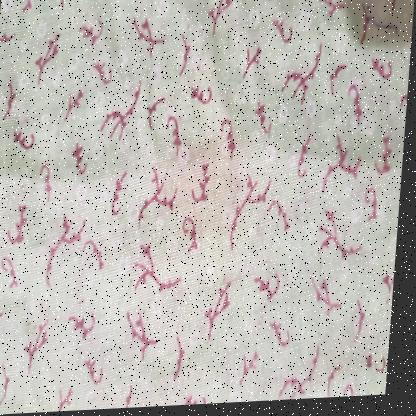spot: (153, 141, 252, 249)
